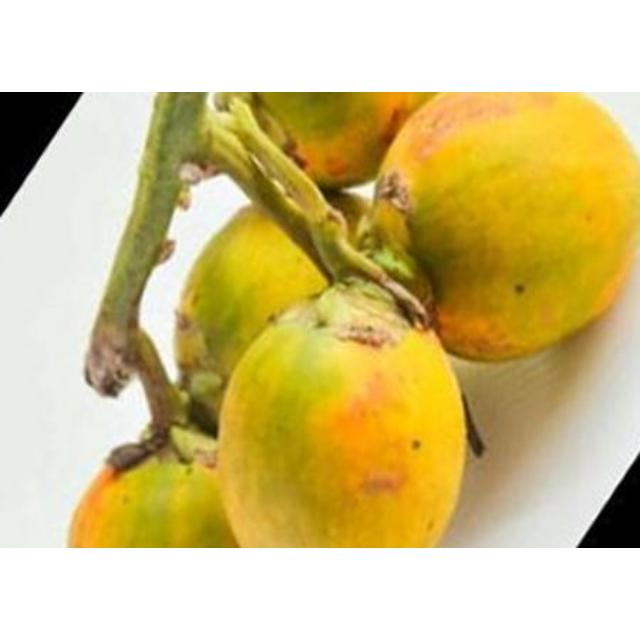good: (213, 217, 479, 547), (378, 92, 639, 364), (78, 172, 392, 372), (65, 442, 238, 547)
